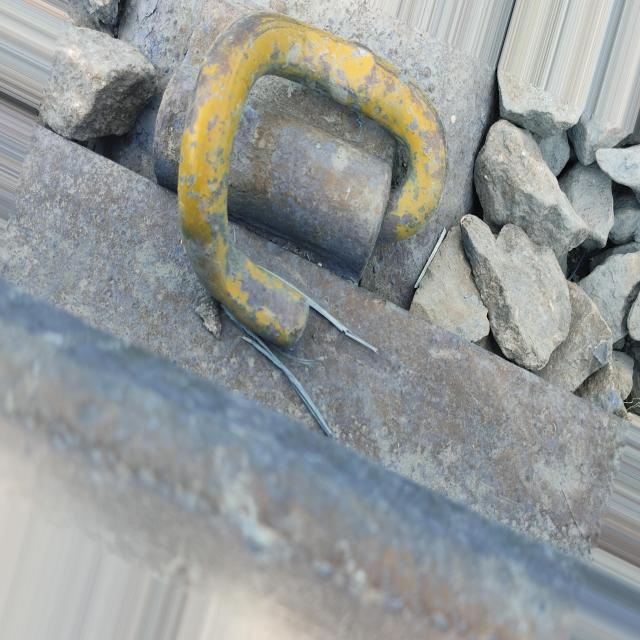Good Fasteners: (139, 0, 457, 384)
